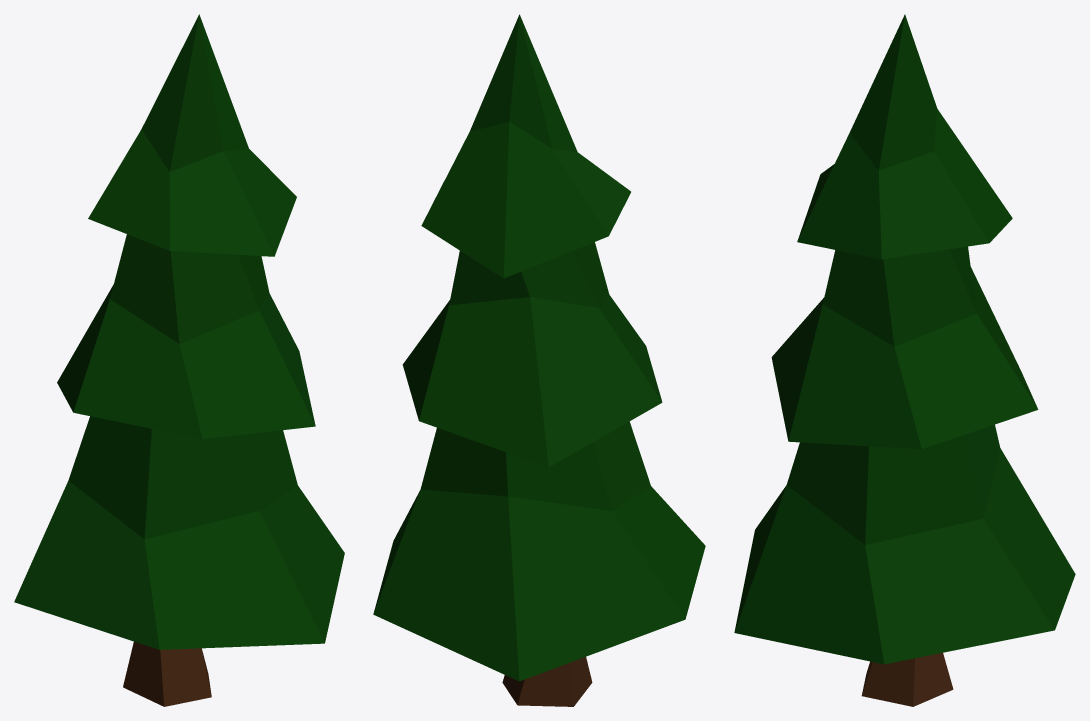
Rendered from tree_long.fbx.
3 views of the same model, side by side, from view 1: azimuth 30°, elevation 25°; view 2: azimuth 150°, elevation 25°; view 3: azimuth 270°, elevation 25° (orthographic). The views are drawn at different scales.
Parts seen in each view (by area): view 1: SpruceTree1; view 2: SpruceTree1; view 3: SpruceTree1.
Boxes of the visible parts, x1=… form: SpruceTree1: x1=14, y1=14, x2=344, y2=706; SpruceTree1: x1=373, y1=14, x2=705, y2=706; SpruceTree1: x1=734, y1=14, x2=1075, y2=706.
Bounding box in the file's own units: 590 × 1209 × 544.
